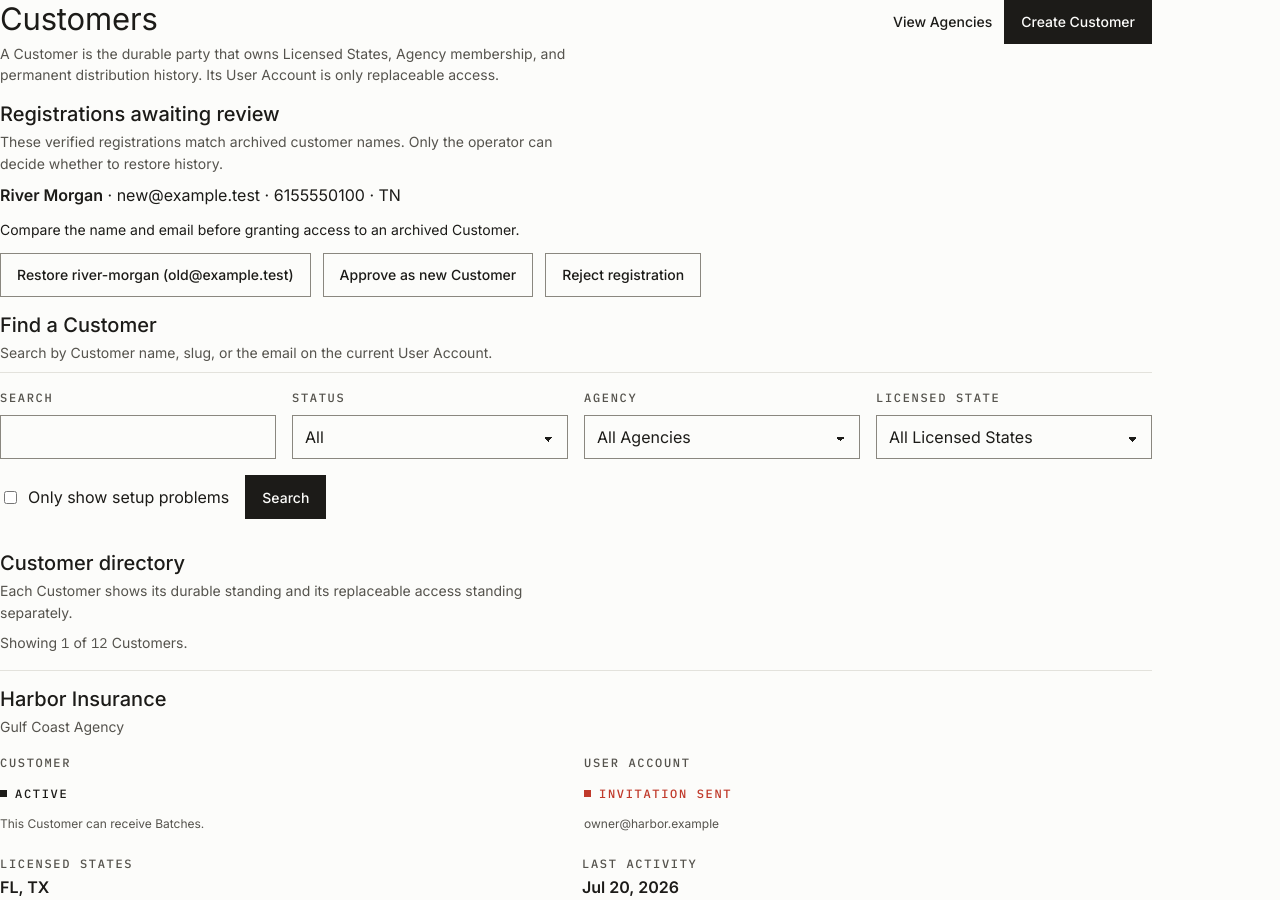
Test: administrator Customer directory › requires confirmation before restoring a verified registration's history
The width and height of the screenshot is (1280, 900).
Click the button "Restore river-morgan (old@example.test)": (155, 275) [0,253,311,297]
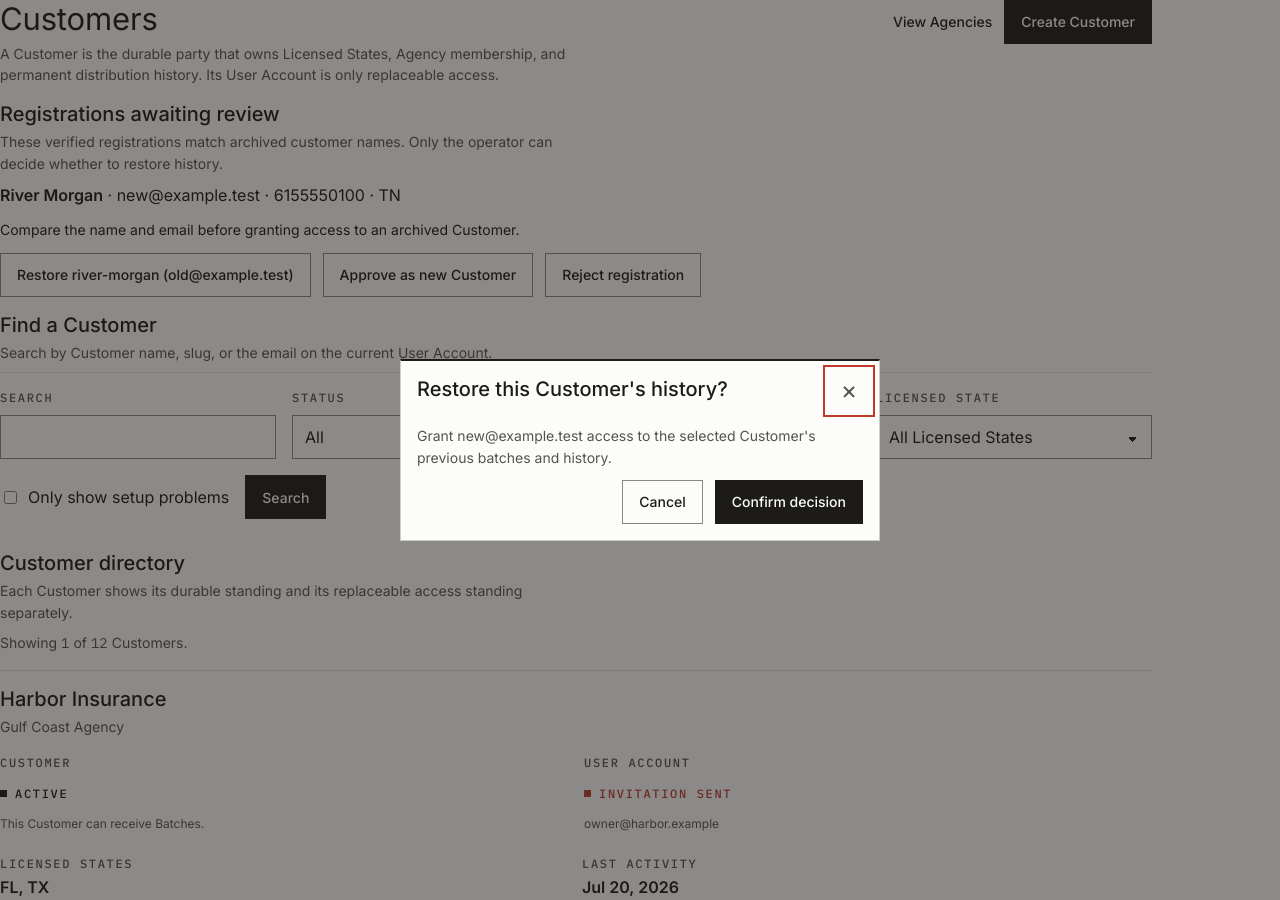
Now the dialog shows "Grant new@example.test access", box [417,427,816,466]
Click the button "Confirm decision": (789, 502) [715,480,863,524]
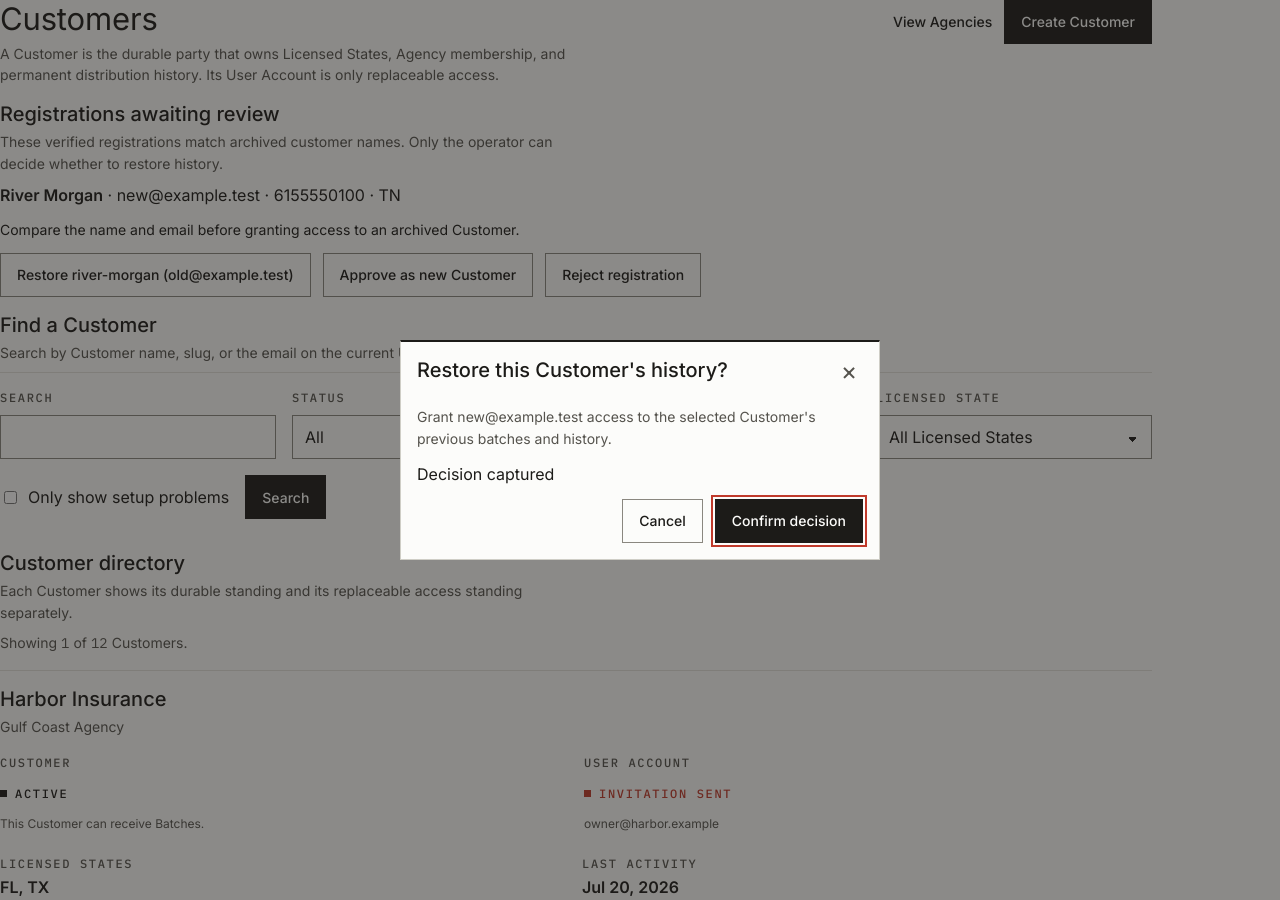
Now the message reads "Decision captured", box [417,464,554,484]
